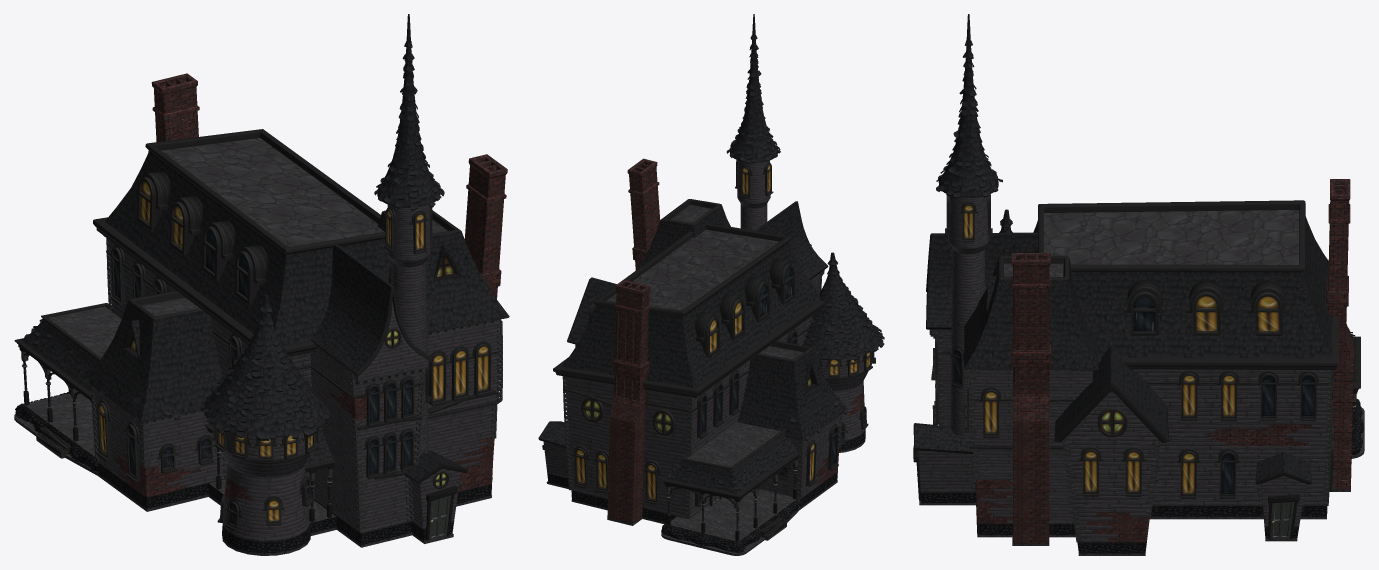
The model's file is hauntedhouse.fbx.
3 views of the same model, side by side, from view 1: azimuth 30°, elevation 25°; view 2: azimuth 150°, elevation 25°; view 3: azimuth 270°, elevation 25° (orthographic). The views are drawn at different scales.
Visible parts, largest first — view 1: node_id9, node_id18, node_id6, node_id15, node_id21, node_id12; view 2: node_id9, node_id18, node_id6, node_id15, node_id21, node_id12; view 3: node_id9, node_id6, node_id18, node_id21, node_id15, node_id12.
Boxes of the visible parts, left/top/right/bottom form: node_id9: left=21, top=14, right=509, bottom=483; node_id18: left=14, top=129, right=502, bottom=540; node_id6: left=93, top=204, right=500, bottom=541; node_id15: left=14, top=138, right=492, bottom=555; node_id21: left=115, top=73, right=507, bottom=501; node_id12: left=15, top=390, right=491, bottom=553; node_id9: left=538, top=14, right=884, bottom=494; node_id18: left=538, top=160, right=875, bottom=541; node_id6: left=543, top=160, right=871, bottom=518; node_id15: left=546, top=205, right=865, bottom=555; node_id21: left=607, top=158, right=864, bottom=523; node_id12: left=547, top=429, right=865, bottom=552; node_id9: left=914, top=14, right=1356, bottom=481; node_id6: left=918, top=196, right=1330, bottom=542; node_id18: left=913, top=194, right=1360, bottom=542; node_id21: left=975, top=179, right=1353, bottom=543; node_id15: left=919, top=210, right=1364, bottom=555; node_id12: left=920, top=399, right=1364, bottom=553.
Size of the model in its own units: 0.3548 by 0.512 by 0.4341.
6 materials, 6 textured.
